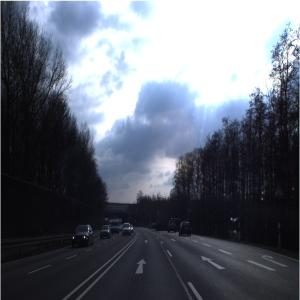traffic signal: (274, 181, 286, 199)
